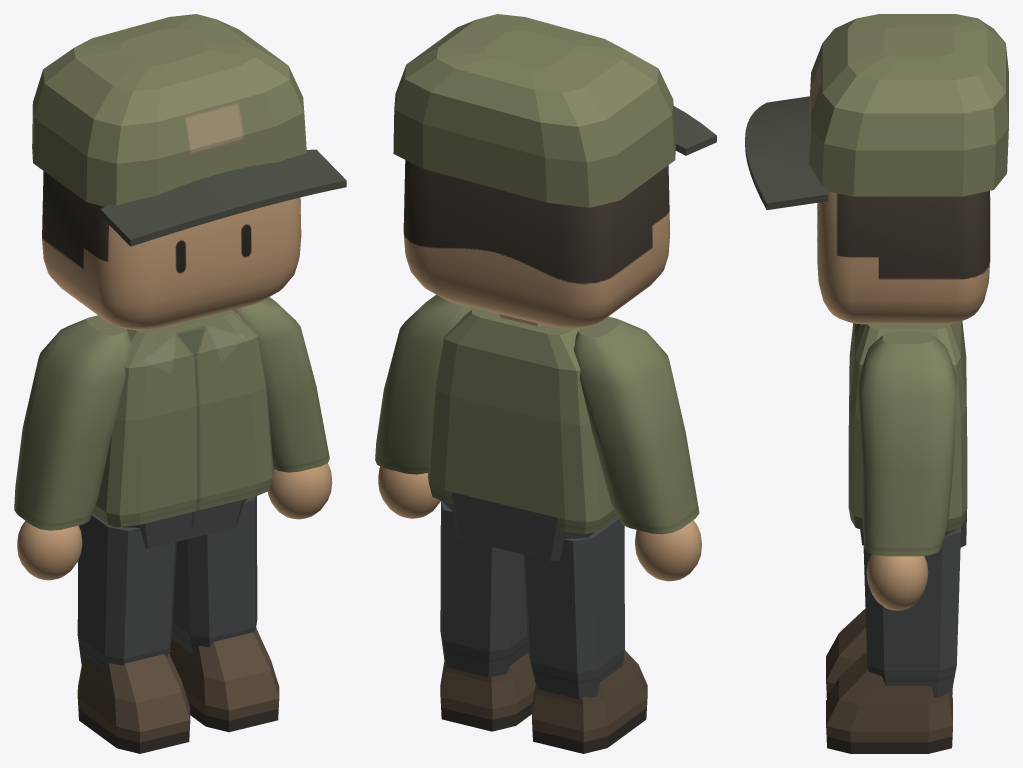
Rendered from SimpleHero_Stage1.glb.
3 renders of one model, left to right at view 1: azimuth 30°, elevation 25°; view 2: azimuth 150°, elevation 25°; view 3: azimuth 270°, elevation 25°, orthographic. The views are drawn at different scales.
Parts seen in each view (by area): view 1: Study_Cap, Study_Torso, Study_Head, Study_Sleeve_-1, Study_Leg_-1, Study_CapBrim, Study_Leg_1, Study_Boot_-1, Study_Sleeve_1, Study_Boot_1, Study_Mitten_-1, Study_Mitten_1 (+1 smaller); view 2: Study_Cap, Study_Head, Study_Torso, Study_Sleeve_-1, Study_Leg_-1, Study_Leg_1, Study_Sleeve_1, Study_Boot_-1, Study_Boot_1, Study_Hips, Study_Mitten_-1, Study_Mitten_1 (+1 smaller); view 3: Study_Cap, Study_Head, Study_Sleeve_1, Study_Leg_1, Study_Boot_1, Study_CapBrim, Study_Torso, Study_Mitten_1, Study_Boot_-1.
Boxes of the visible parts, x1,y1,x2,y2 form: Study_Cap: (32, 14, 306, 206); Study_Torso: (93, 310, 273, 526); Study_Head: (42, 171, 301, 329); Study_Sleeve_-1: (14, 315, 131, 530); Study_Leg_-1: (77, 513, 176, 670); Study_CapBrim: (100, 149, 346, 246); Study_Leg_1: (172, 496, 257, 653); Study_Boot_-1: (77, 653, 190, 753); Study_Sleeve_1: (232, 297, 329, 472); Study_Boot_1: (169, 628, 279, 732); Study_Mitten_-1: (17, 521, 82, 580); Study_Mitten_1: (268, 463, 332, 519); Study_Cap: (393, 14, 675, 207); Study_Head: (403, 160, 669, 328); Study_Torso: (427, 308, 617, 534); Study_Sleeve_-1: (573, 316, 699, 534); Study_Leg_-1: (523, 517, 624, 699); Study_Leg_1: (440, 501, 527, 677); Study_Sleeve_1: (375, 294, 473, 474); Study_Boot_-1: (532, 650, 647, 753); Study_Boot_1: (440, 653, 535, 731); Study_Hips: (443, 492, 594, 561); Study_Mitten_-1: (635, 520, 701, 581); Study_Mitten_1: (378, 466, 440, 518); Study_Cap: (809, 14, 1008, 196); Study_Head: (817, 191, 990, 324); Study_Sleeve_1: (859, 331, 956, 556); Study_Leg_1: (863, 527, 960, 697); Study_Boot_1: (826, 651, 952, 753); Study_CapBrim: (745, 96, 828, 209); Study_Torso: (848, 321, 967, 531); Study_Mitten_1: (866, 553, 928, 610); Study_Boot_-1: (826, 608, 952, 698).
Bounding box in the file's own units: 0.874 × 1.78 × 0.6335.
1 material, 1 textured.
